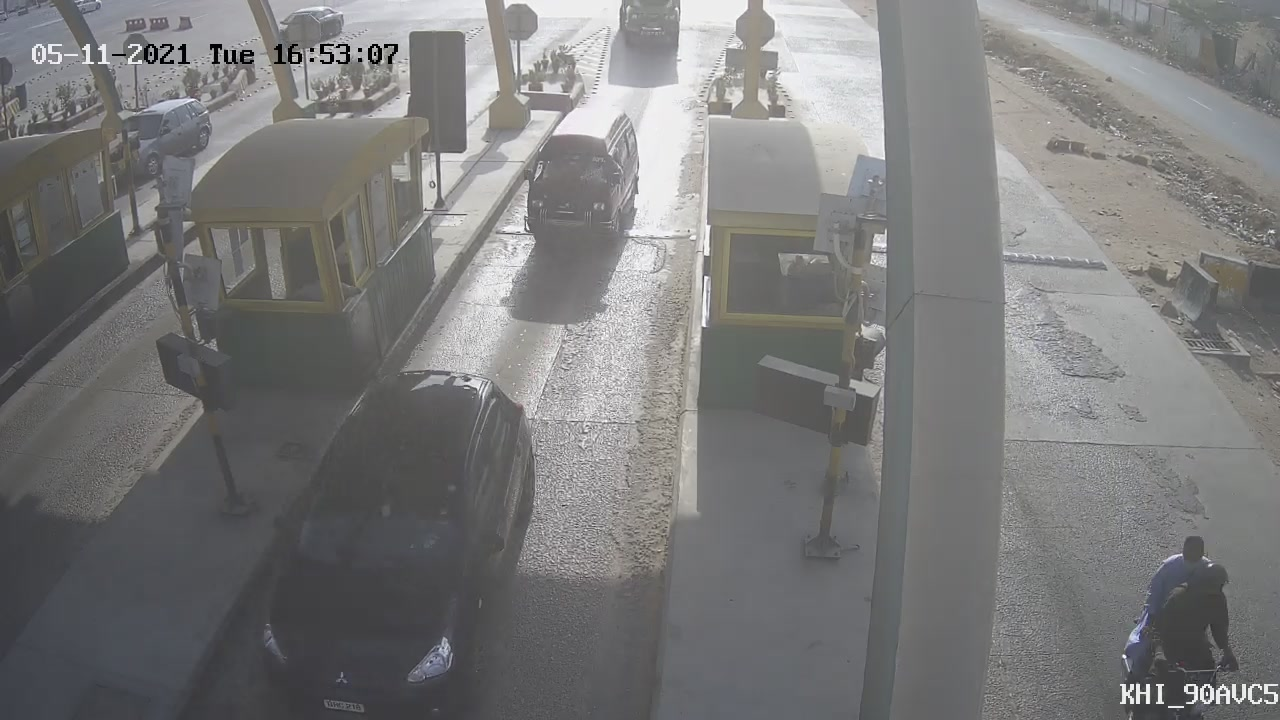F1: (500, 91, 661, 277)
